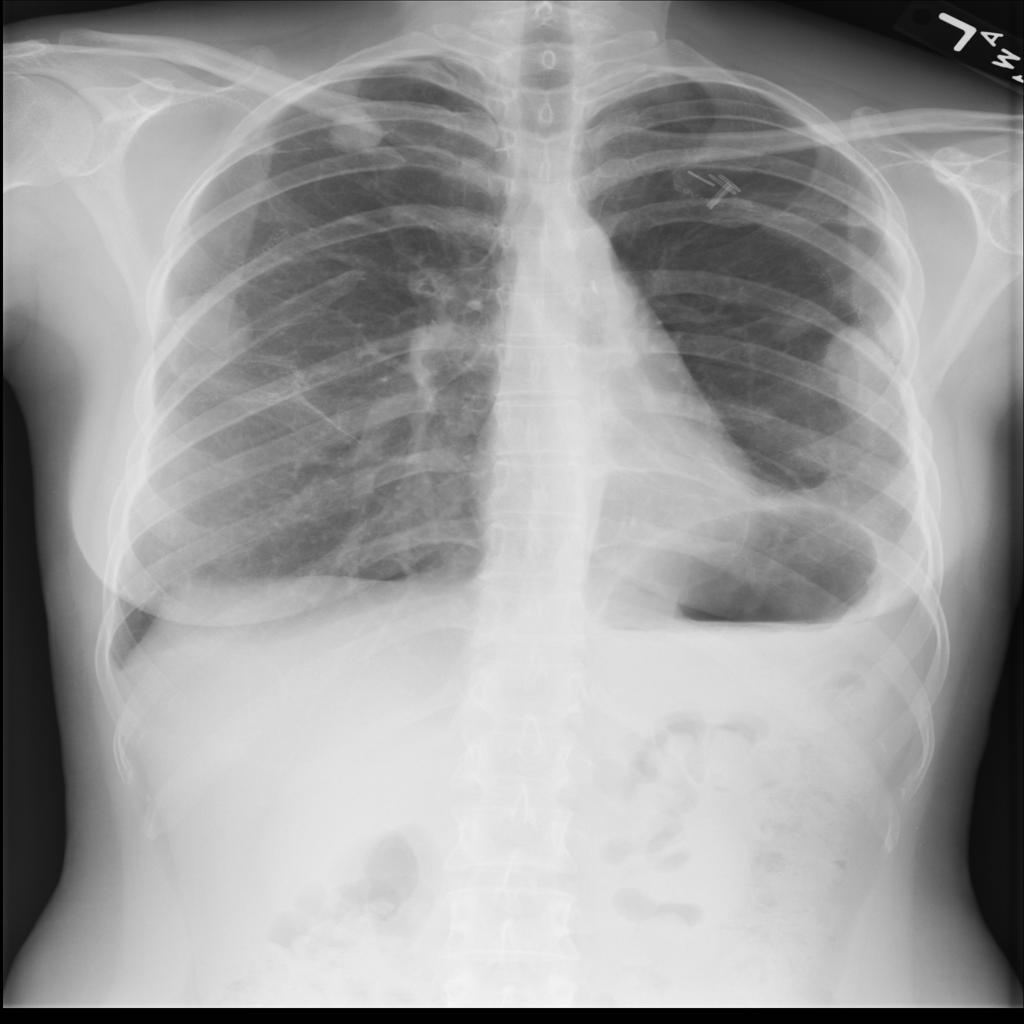nodule: (810, 305, 928, 416), (148, 285, 274, 386), (311, 100, 402, 162)
